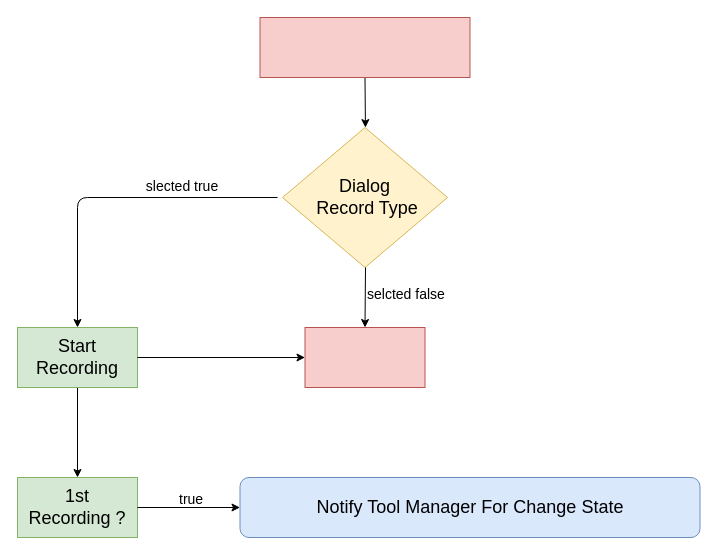
Image size: 718x555. Some labels were removed from this diagram. The shapes that lost their labels are listed below. From the top down, each one's box as (x1, y1, x2, y2) in pixels, then its label:
(259, 16, 470, 78): User click Record Button
(304, 326, 425, 388): Dismiss Dialog
